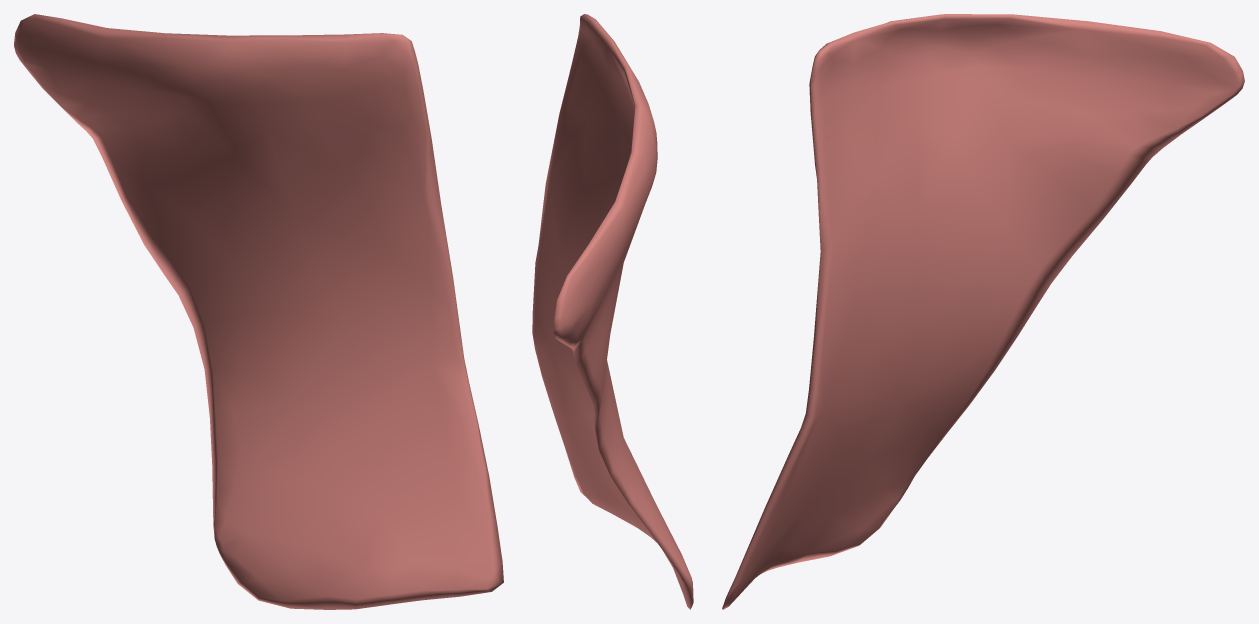
The picture shows the model from 3 angles, left to right: view 1: azimuth 30°, elevation 25°; view 2: azimuth 150°, elevation 25°; view 3: azimuth 270°, elevation 25°; orthographic projection.
Parts seen in each view (by area): view 1: ZA_393874901b84fd27; view 2: ZA_393874901b84fd27; view 3: ZA_393874901b84fd27.
Boxes of the visible parts, <box> form: ZA_393874901b84fd27: <box>14,14,503,609</box>; ZA_393874901b84fd27: <box>532,14,693,609</box>; ZA_393874901b84fd27: <box>722,14,1244,609</box>.
Size of the model in its own units: 0.0126 by 0.0275 by 0.0233.
